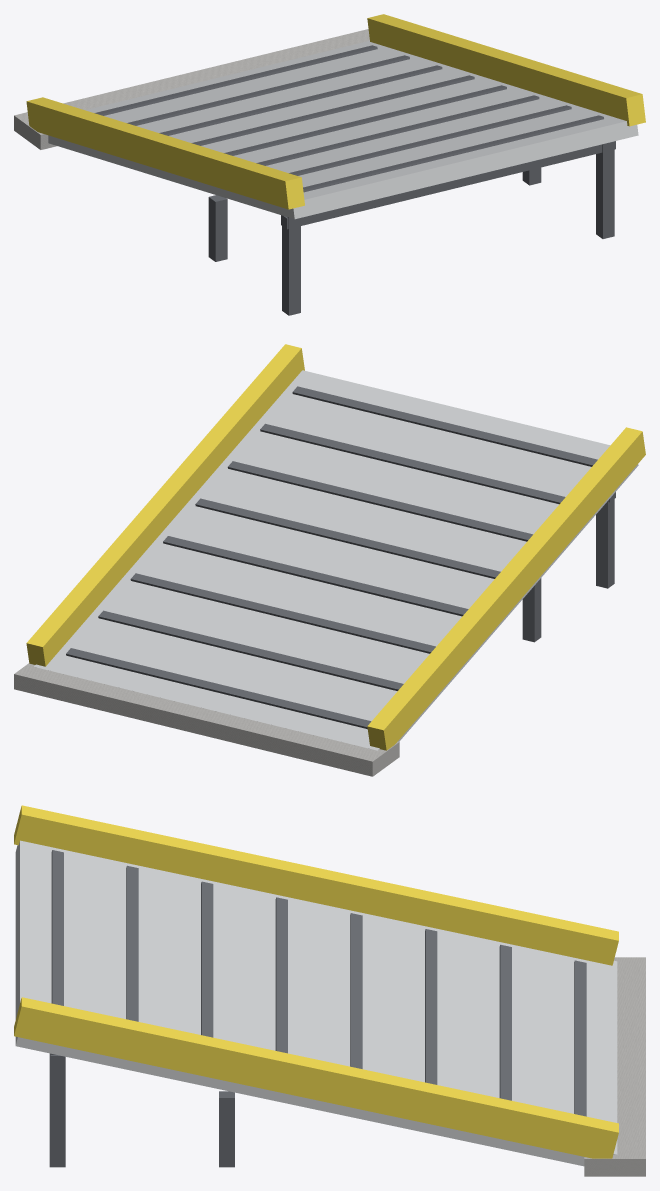
File: ferry-terminal-and-harbour-crossing-ferry-terminal-and-7943c505__35632.glb
3 renders of one model, top to bottom at view 1: azimuth 30°, elevation 25°; view 2: azimuth 150°, elevation 25°; view 3: azimuth 270°, elevation 25°, orthographic. The views are drawn at different scales.
Visible parts, largest first — view 1: ferry-terminal-and-harbour-crossing-deck-ramp-section; view 2: ferry-terminal-and-harbour-crossing-deck-ramp-section; view 3: ferry-terminal-and-harbour-crossing-deck-ramp-section.
Part boxes in pixels (left/top/right/bottom): ferry-terminal-and-harbour-crossing-deck-ramp-section: left=14, top=14, right=645, bottom=315; ferry-terminal-and-harbour-crossing-deck-ramp-section: left=14, top=344, right=645, bottom=776; ferry-terminal-and-harbour-crossing-deck-ramp-section: left=14, top=805, right=645, bottom=1176.
Bounding box in the file's own units: 4.8 × 1.88 × 6.35.
4 materials, 1 textured.
